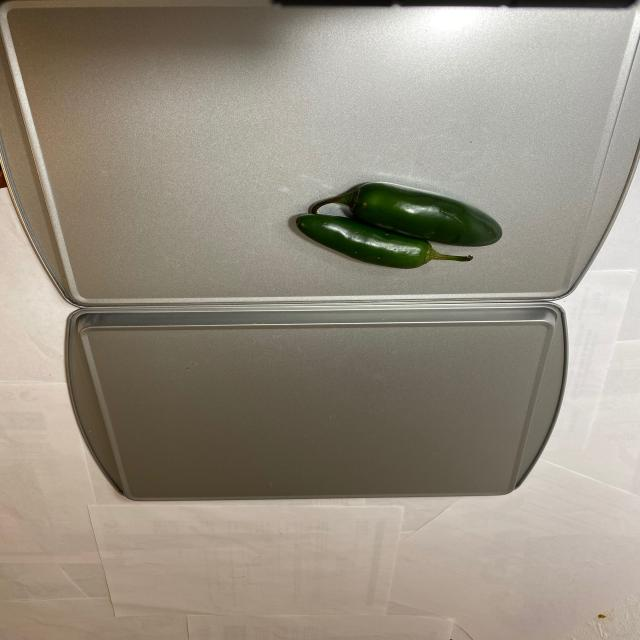chilli: (284, 175, 516, 266)
